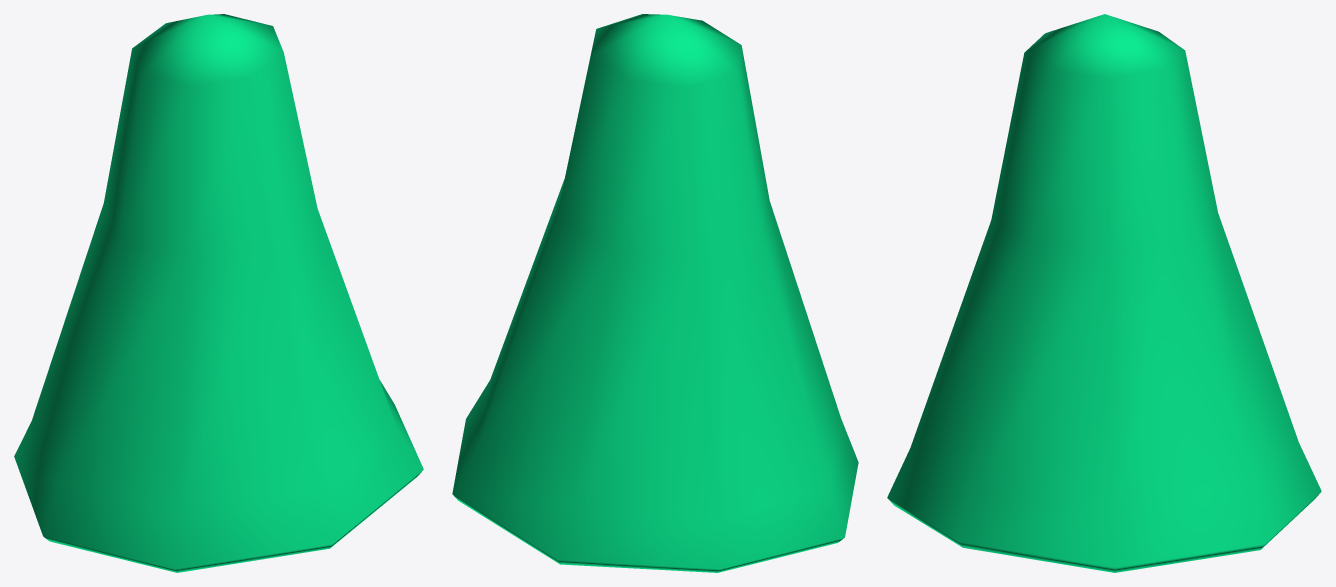
The model's file is Mushroom_04_Head.fbx.
3 views of the same model, side by side, from view 1: azimuth 30°, elevation 25°; view 2: azimuth 150°, elevation 25°; view 3: azimuth 270°, elevation 25° (orthographic). The views are drawn at different scales.
Parts seen in each view (by area): view 1: Mushroom_04_Head; view 2: Mushroom_04_Head; view 3: Mushroom_04_Head.
Part boxes in pixels (x1,y1,x2,y2): Mushroom_04_Head: [14, 14, 423, 572]; Mushroom_04_Head: [452, 14, 858, 572]; Mushroom_04_Head: [887, 14, 1321, 572].
Bounding box in the file's own units: 35.63 × 45.43 × 35.79.
